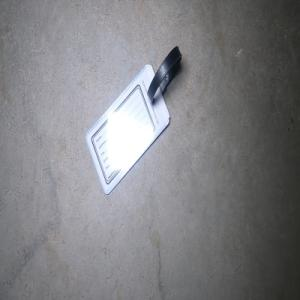LuggageTag: (84, 44, 183, 196)
